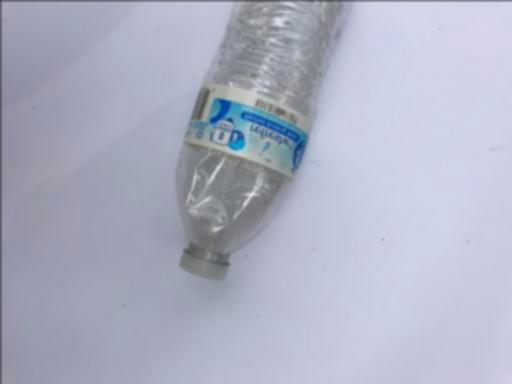PET: (174, 0, 359, 279)
plastic: (174, 0, 359, 279)
water: (174, 0, 359, 279)
